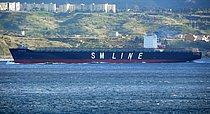Ship: (7, 34, 205, 66)
